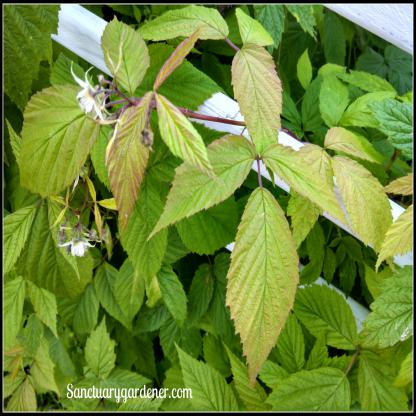Raspberry leaf: (225, 185, 298, 387), (145, 129, 261, 234), (261, 142, 352, 226), (225, 38, 284, 166)
